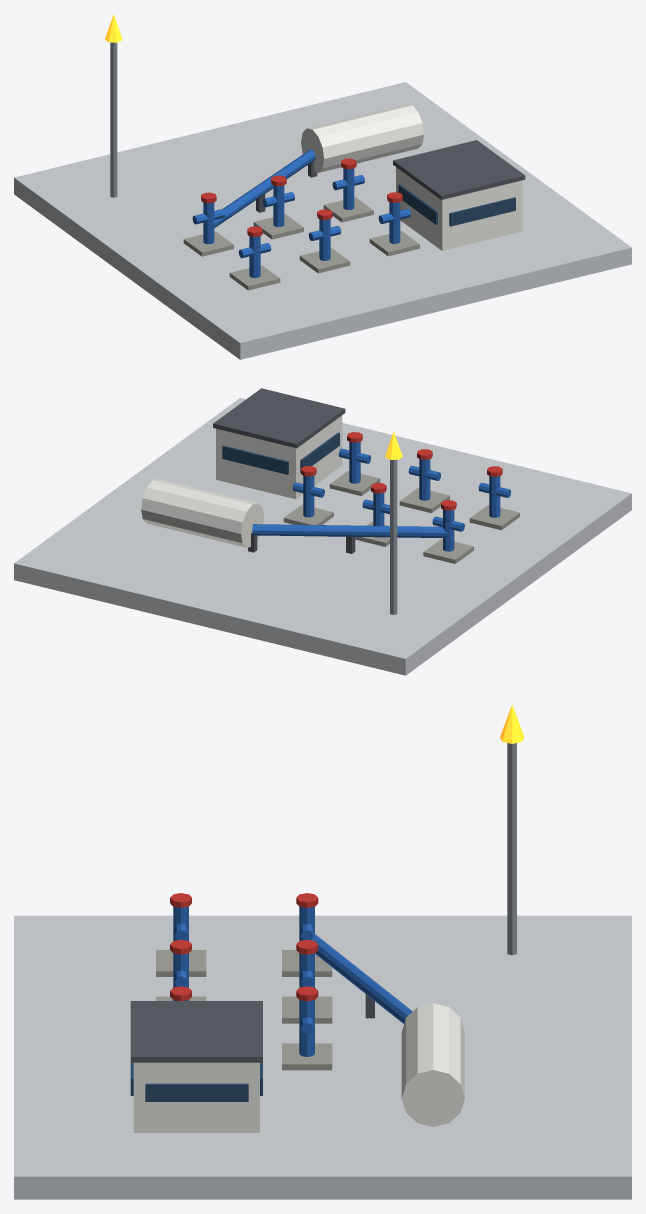
The model's file is gas_rent_3.glb.
3 renders of one model, top to bottom at view 1: azimuth 30°, elevation 25°; view 2: azimuth 150°, elevation 25°; view 3: azimuth 270°, elevation 25°, orthographic. The views are drawn at different scales.
Parts seen in each view (by area): view 1: gas_rent_3; view 2: gas_rent_3; view 3: gas_rent_3.
Boxes of the visible parts, x1,y1,x2,y2 form: gas_rent_3: [14, 14, 631, 359]; gas_rent_3: [14, 388, 631, 675]; gas_rent_3: [14, 704, 631, 1199].
Size of the model in its own units: 1.96 by 0.95 by 1.96.
